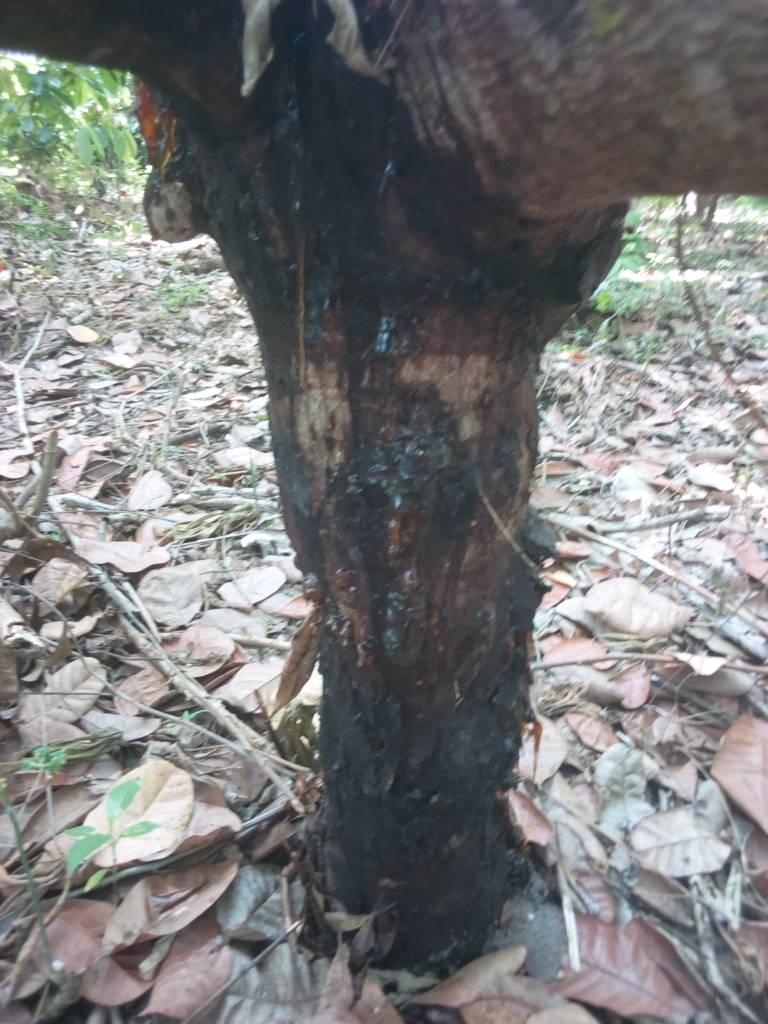Gommose: (205, 57, 588, 369), (322, 396, 535, 847)
